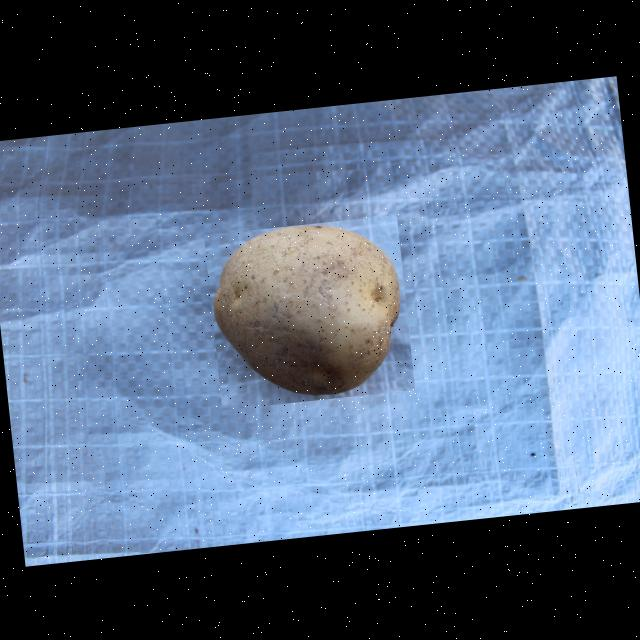Diseased-fungal potato: (202, 214, 414, 408)
